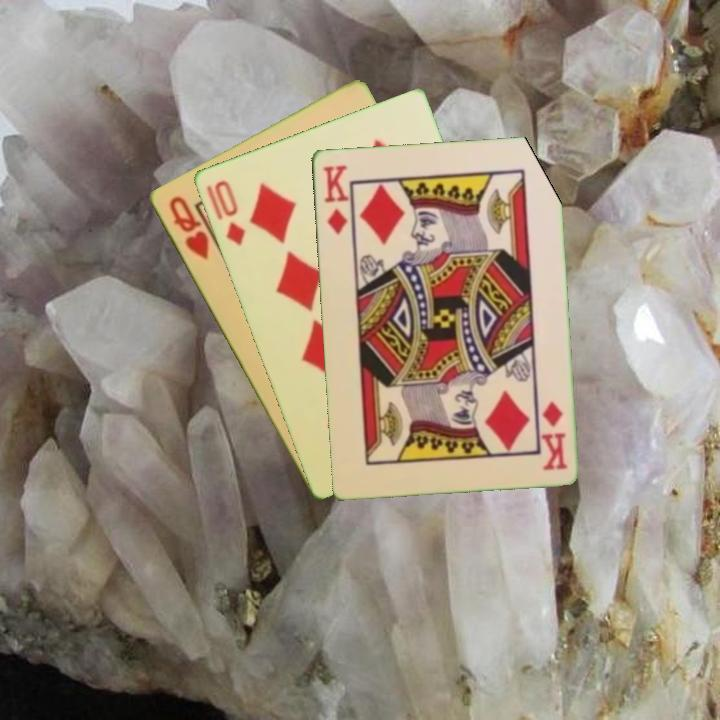10d: (202, 176, 248, 248)
Kd: (318, 161, 351, 237), (538, 397, 569, 473)
Qh: (165, 192, 212, 263)
